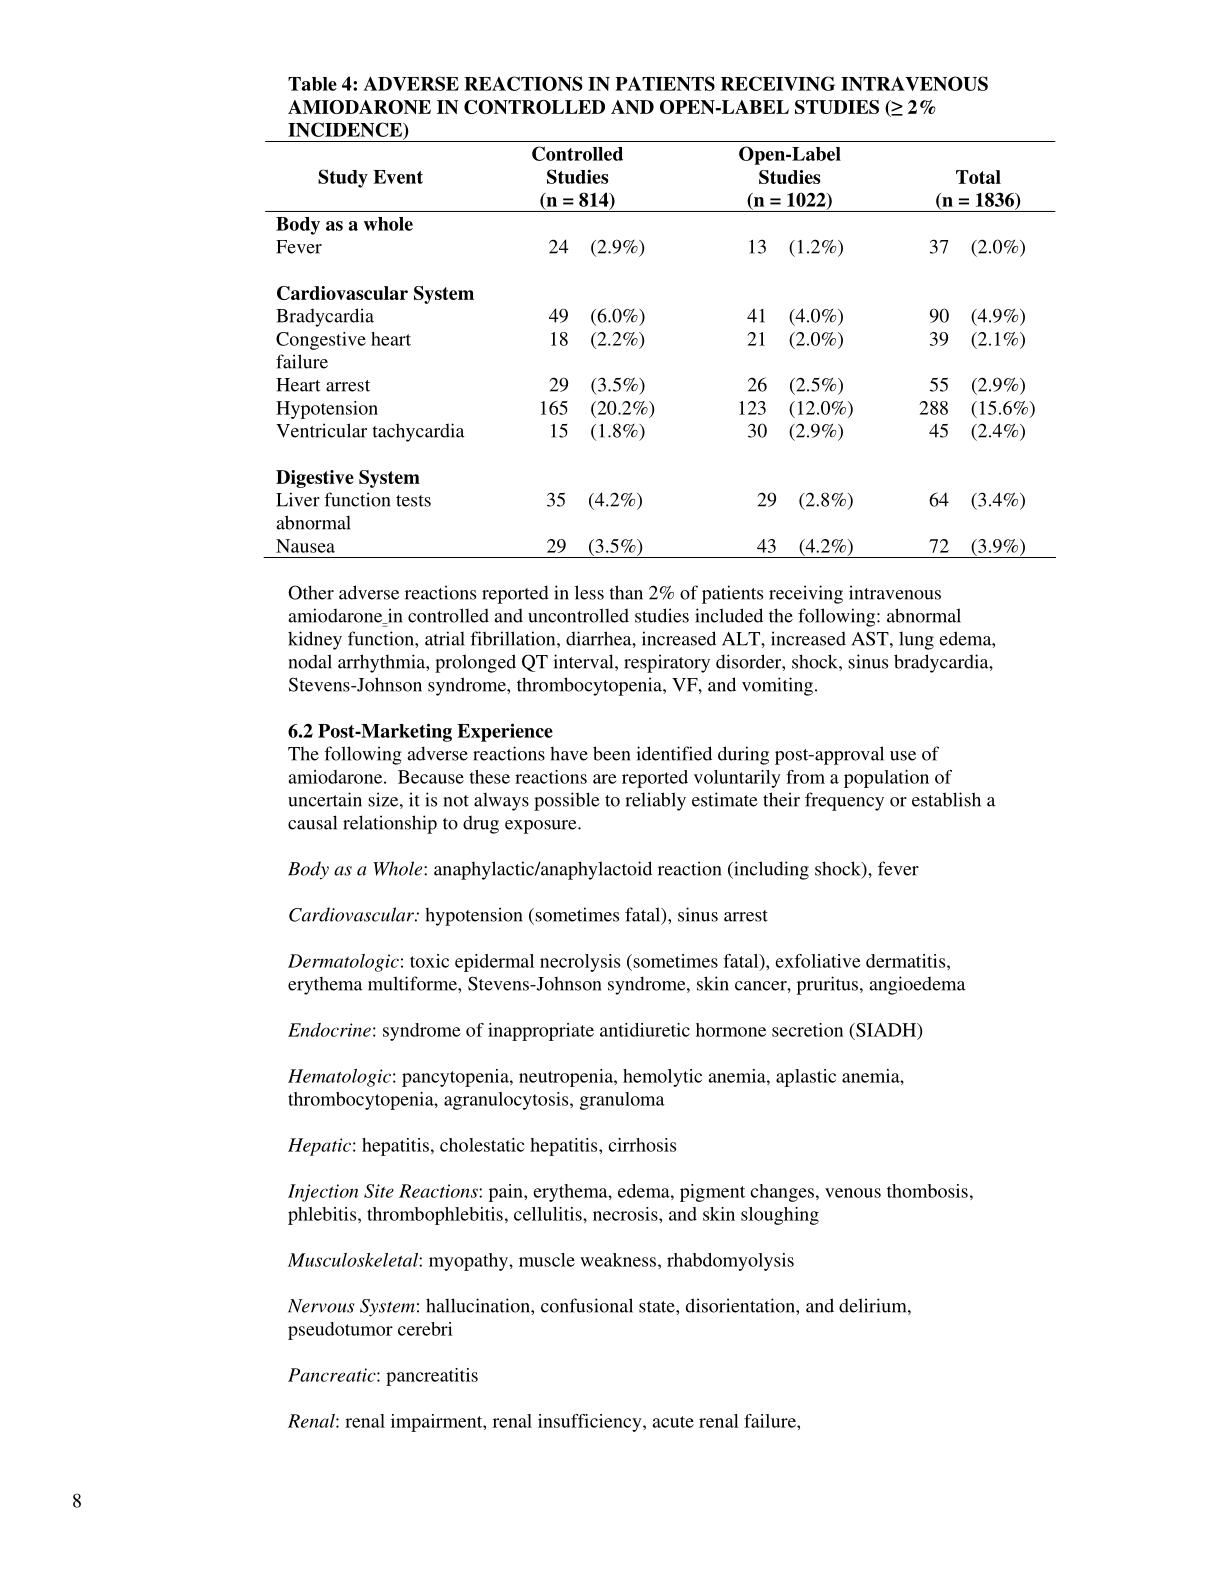partial_lined: (265, 140, 1056, 559)
